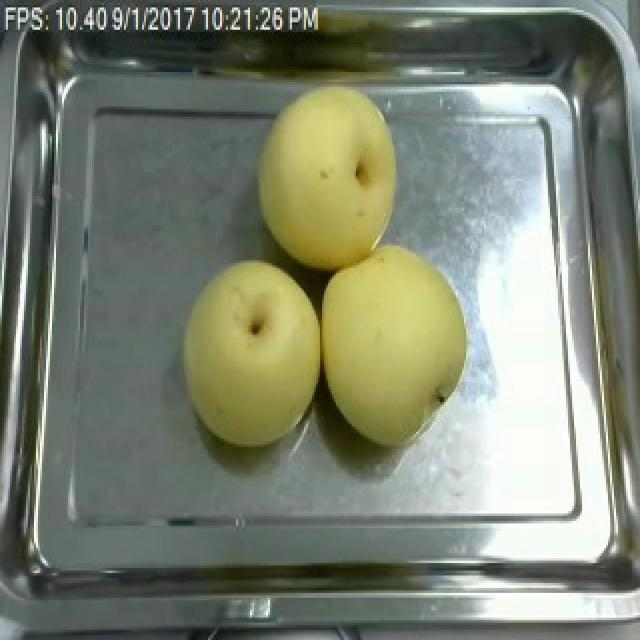Fruit: (316, 238, 478, 452), (248, 77, 410, 278), (172, 253, 326, 451)
